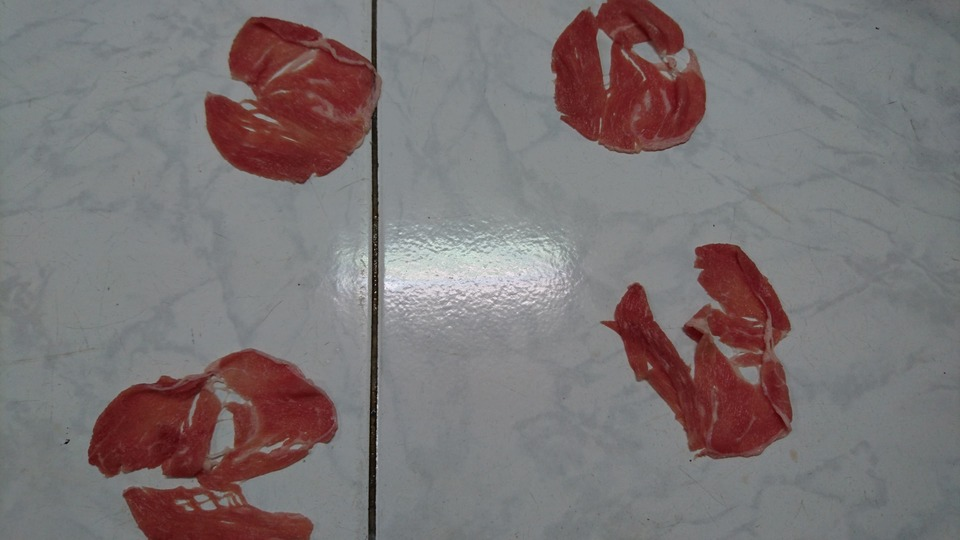restructured meat: (80, 343, 342, 540), (607, 234, 821, 446), (199, 17, 421, 193), (544, 4, 708, 153)
